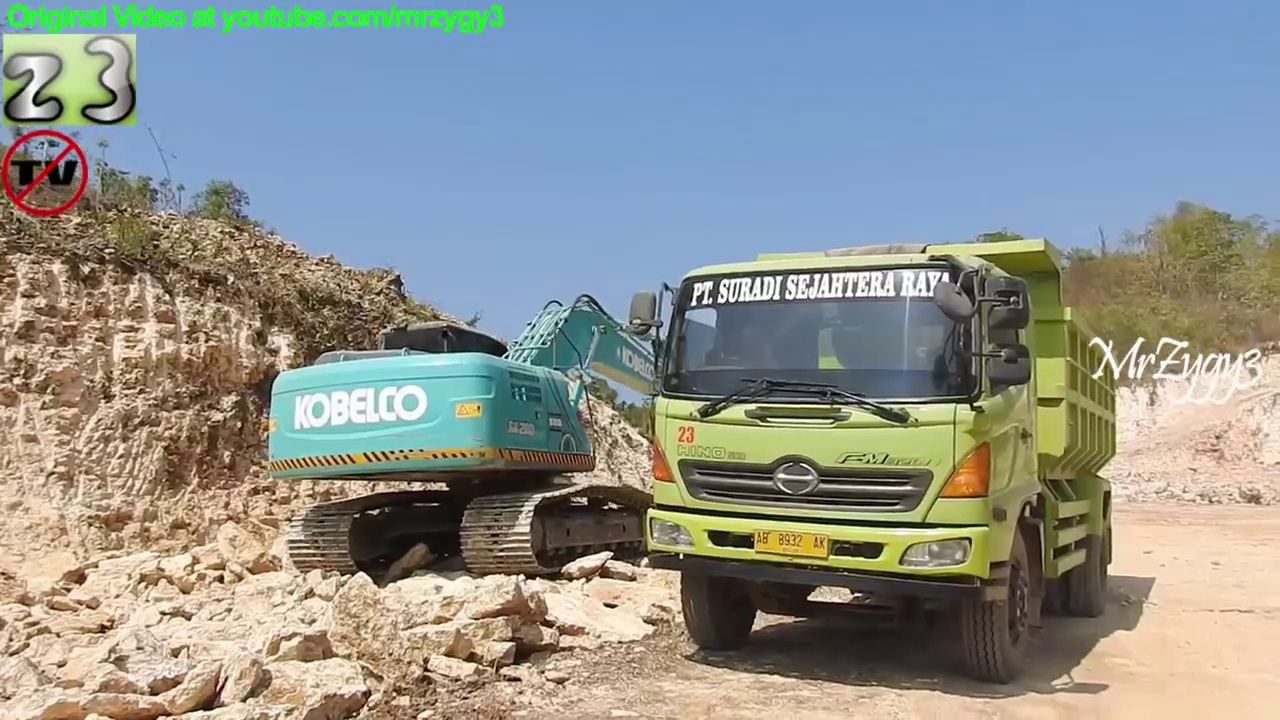excavator: (258, 286, 951, 588)
truck: (623, 227, 1126, 688)
